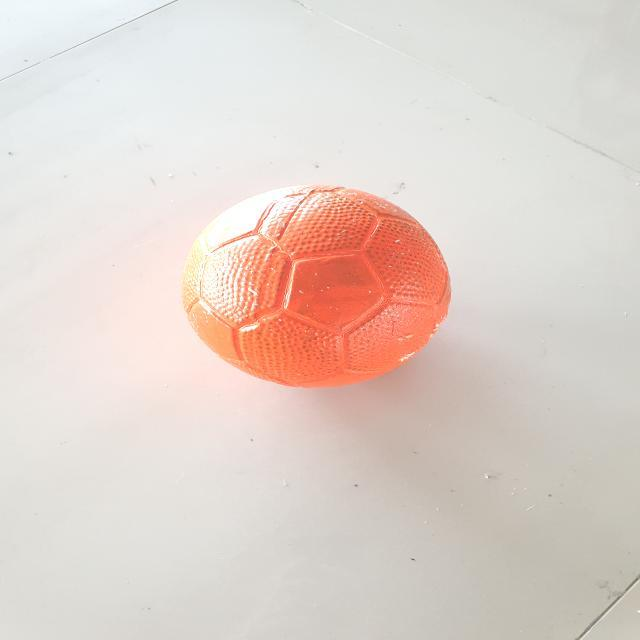bola: (156, 174, 466, 402)
